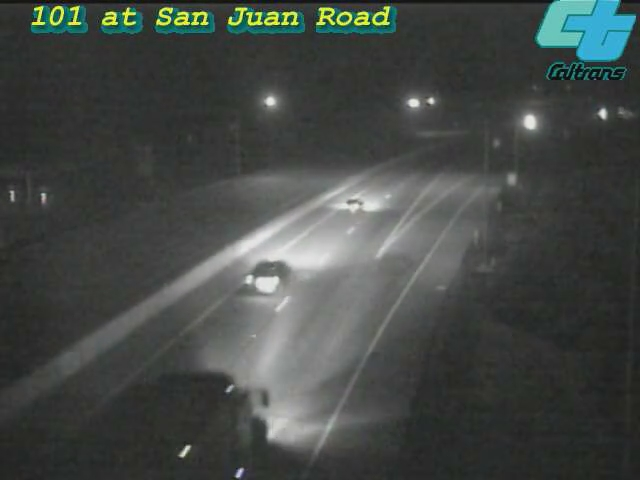vehicle: (115, 393, 225, 480), (313, 162, 393, 242), (228, 238, 308, 318), (504, 97, 554, 147), (578, 89, 628, 139), (601, 89, 640, 139)
